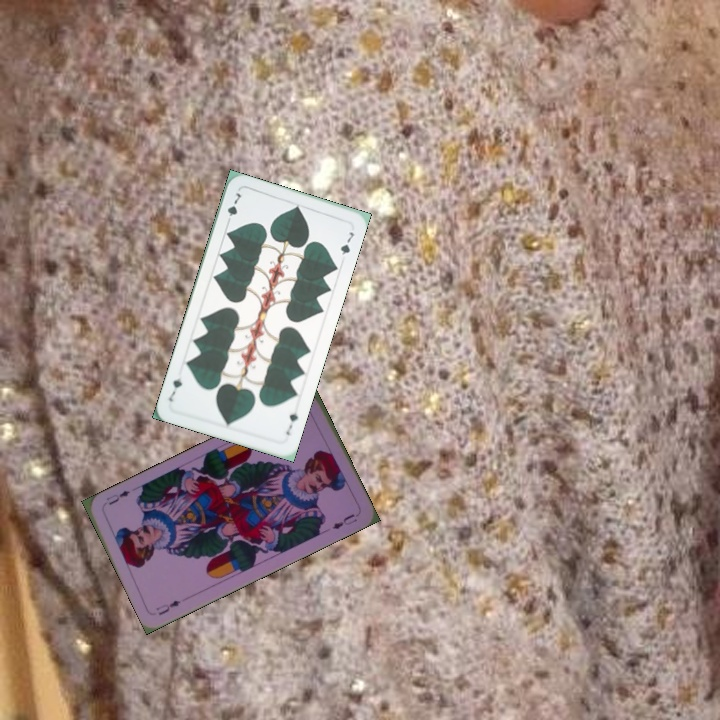EU: (152, 596, 183, 618)
G7: (223, 188, 244, 227), (282, 408, 301, 438)
